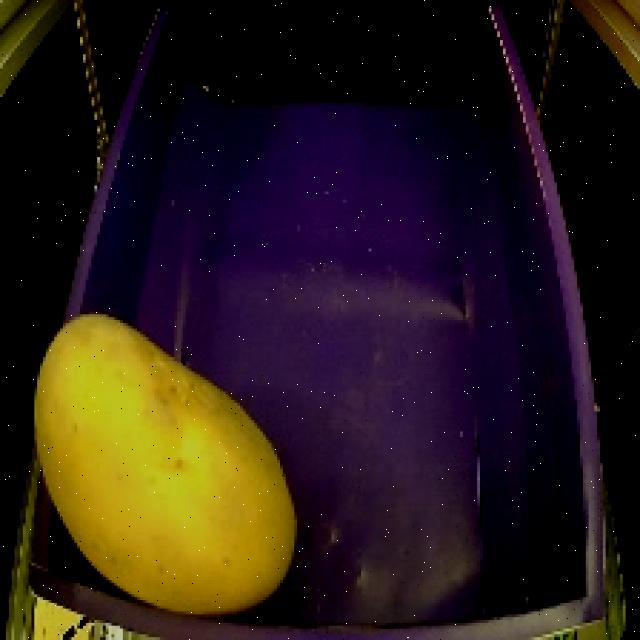full_potato: (23, 302, 306, 625)
